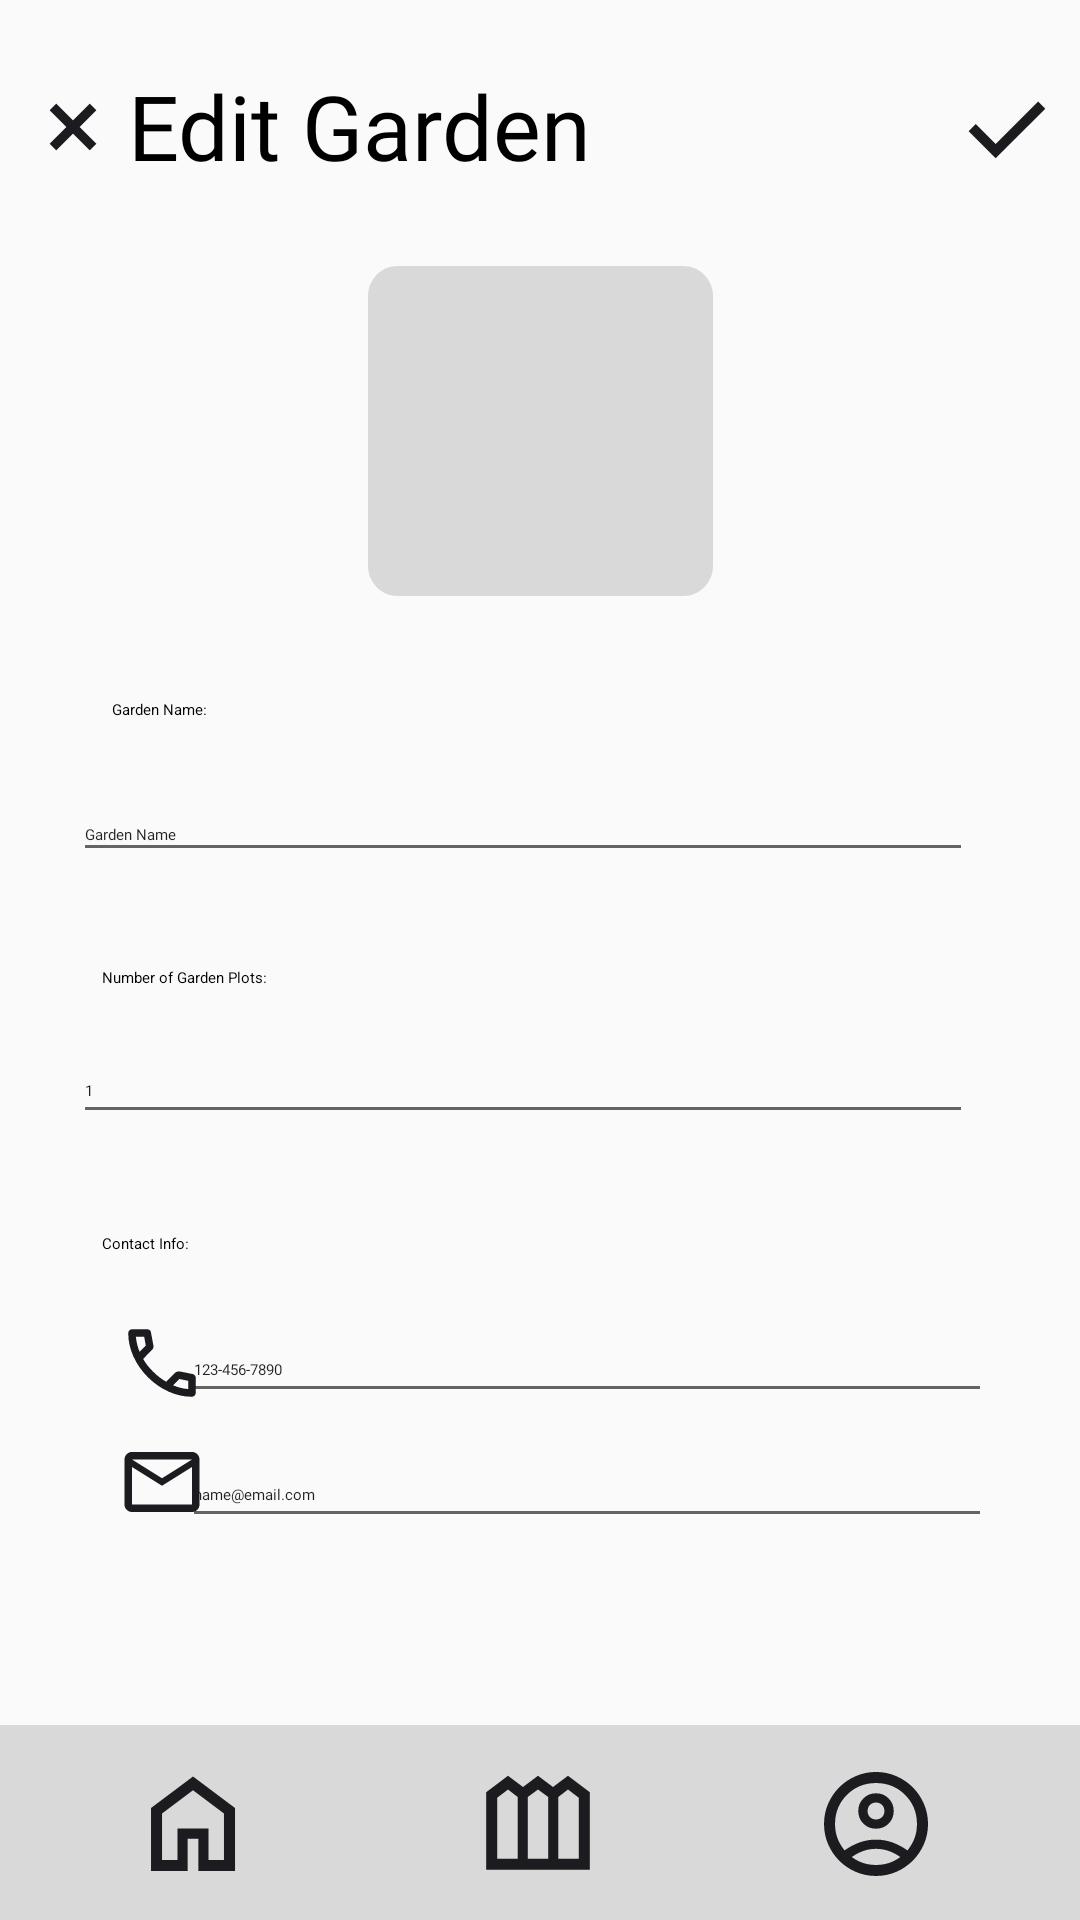

Where to tap for icons on this 1080*1920 app screen, as point (x, y):
call: point (167, 1363)
check: point (1006, 129)
close: point (73, 127)
home: point (193, 1823)
outdoor garden: point (538, 1823)
